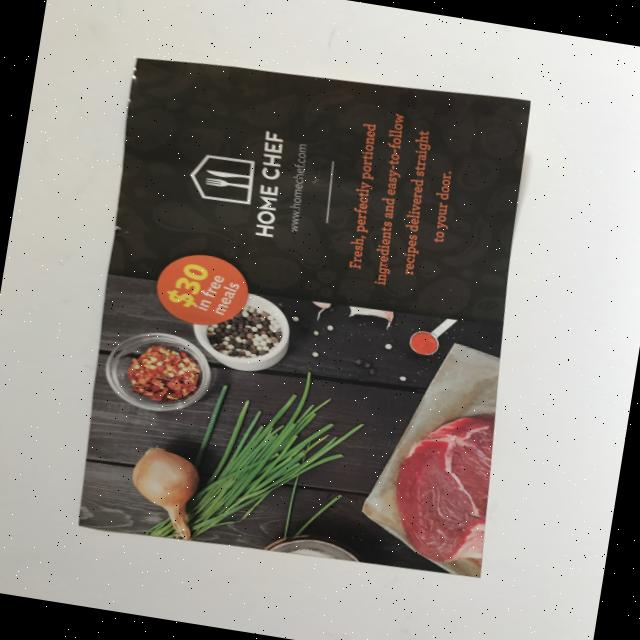paper: (61, 40, 554, 591)
